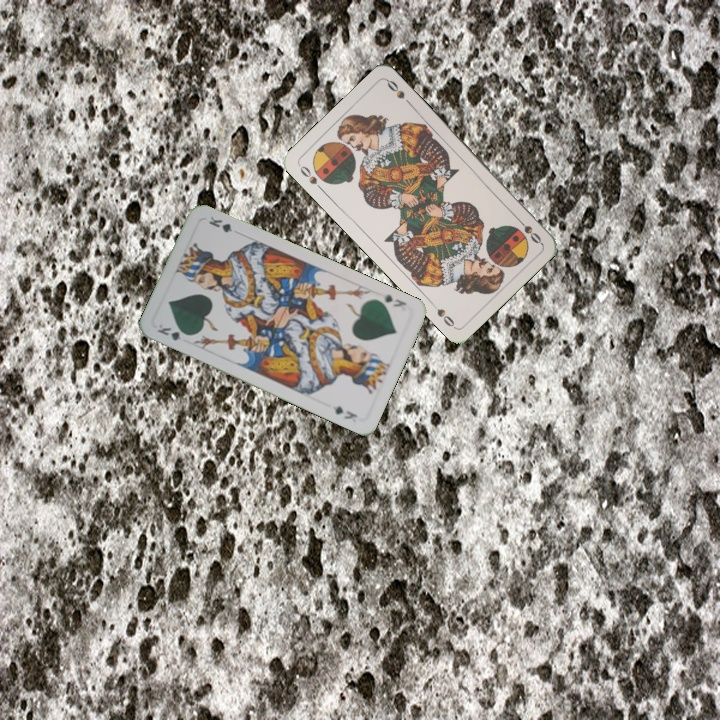GK: (153, 320, 193, 343), (378, 290, 409, 310)
SO: (512, 213, 544, 246), (296, 162, 326, 194)
